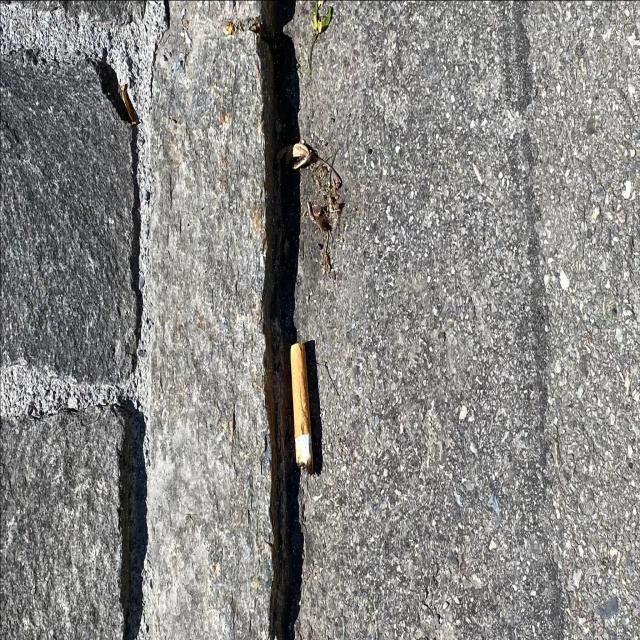other waste: (289, 341, 314, 476)
